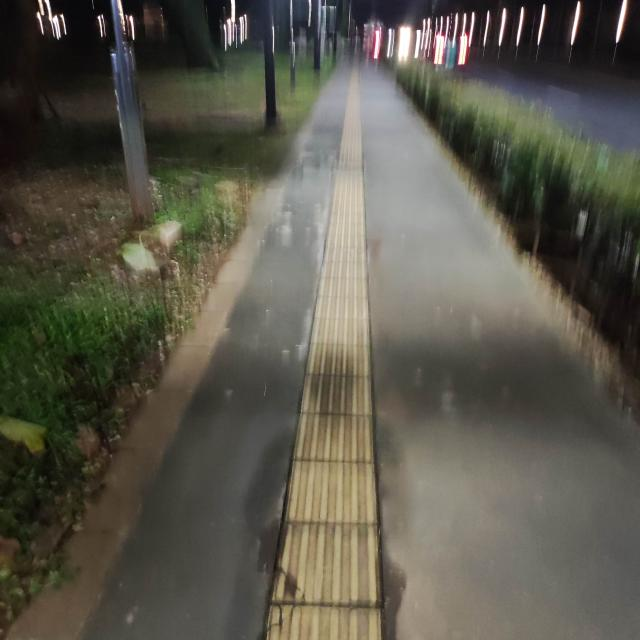lurus: (260, 96, 407, 640)
